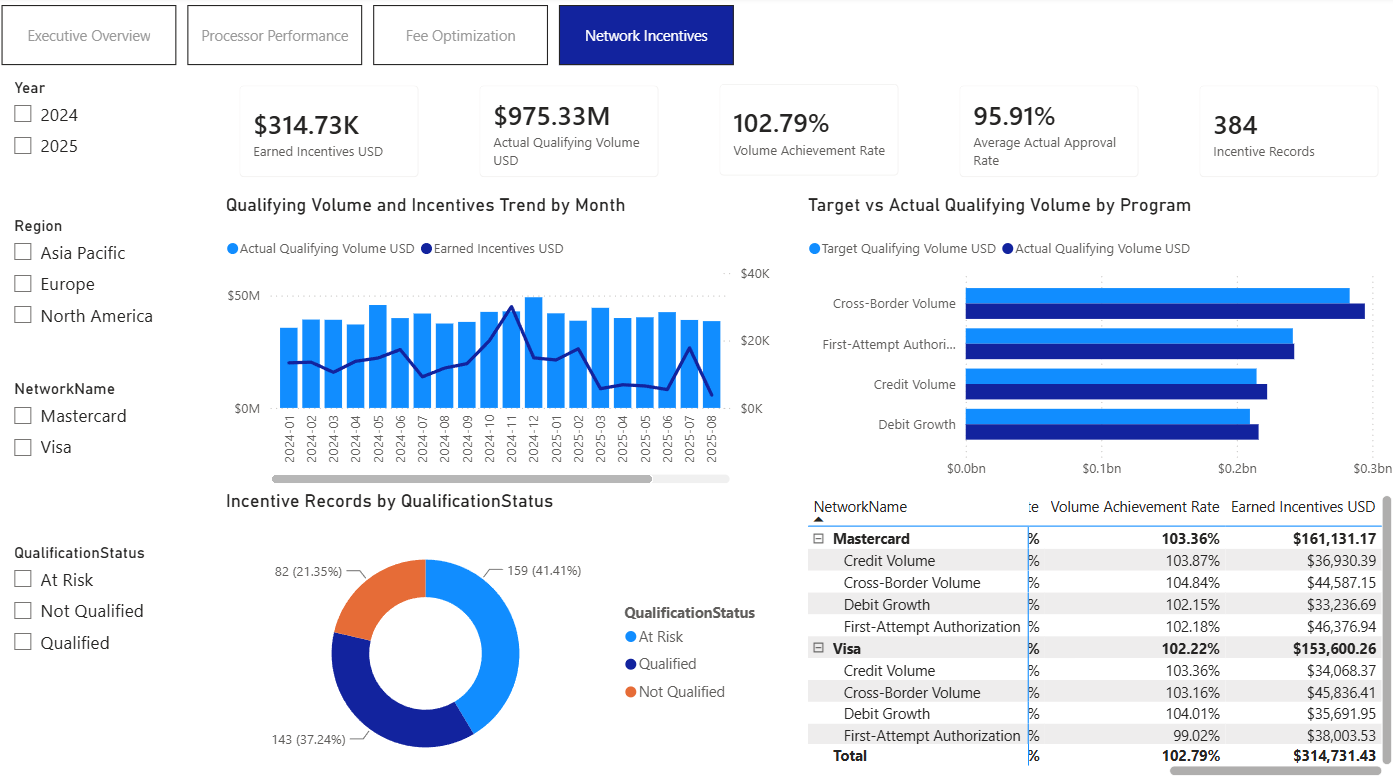

Layout of this report page (visuals, bound fields, positions):
{"tool":"powerbi","page":{"name":"Network Incentives","canvas":[1280,720],"ordinal":3},"visuals":[{"type":"slicer","fields":{"Values":["DimMarket.Region"]},"box":[0,196.6,201.1,149.3],"z":0},{"type":"slicer","fields":{"Values":["DimNetwork.NetworkName"]},"box":[0,345.9,201.1,149.3],"z":1000},{"type":"slicer","fields":{"Values":["FactNetworkIncentives.QualificationStatus"]},"box":[0,495.2,201.1,149.3],"z":2000},{"type":"cardVisual","fields":{"Data":["AllMeasures.Earned Incentives USD"]},"box":[201.1,64,198.1,118.9],"z":3000},{"type":"cardVisual","fields":{"Data":["AllMeasures.Actual Qualifying Volume USD"]},"box":[421,64,198,118.9],"z":4000},{"type":"cardVisual","fields":{"Data":["AllMeasures.Volume Achievement Rate"]},"box":[640.8,62.5,198,118.4],"z":5000},{"type":"cardVisual","fields":{"Data":["AllMeasures.Average Actual Approval Rate"]},"box":[860.6,64,198,118.4],"z":6000},{"type":"cardVisual","fields":{"Data":["AllMeasures.Incentive Records"]},"box":[1080.4,64,198,118.4],"z":7000},{"type":"lineStackedColumnComboChart","title":"Qualifying Volume and Incentives Trend by Month","fields":{"Category":["DimDate.Year Month"],"Y":["AllMeasures.Actual Qualifying Volume USD"],"Y2":["AllMeasures.Earned Incentives USD"]},"box":[201.1,181.3,507.4,269.7],"z":8000},{"type":"clusteredBarChart","title":"Target vs Actual Qualifying Volume by Program","fields":{"Category":["FactNetworkIncentives.Program"],"Y":["AllMeasures.Target Qualifying Volume USD","AllMeasures.Actual Qualifying Volume USD"]},"box":[734.5,181.3,544,269.7],"z":9000},{"type":"donutChart","fields":{"Category":["FactNetworkIncentives.QualificationStatus"],"Y":["AllMeasures.Incentive Records"]},"box":[201.1,451,507.4,269.7],"z":10000},{"type":"pivotTable","fields":{"Rows":["DimNetwork.NetworkName","FactNetworkIncentives.Program"],"Values":["AllMeasures.Target Qualifying Volume USD","AllMeasures.Actual Qualifying Volume USD","AllMeasures.Average Actual Approval Rate","AllMeasures.Volume Achievement Rate","AllMeasures.Earned Incentives USD"]},"box":[734.5,451,544,266.7],"z":11000},{"type":"slicer","fields":{"Values":["DimDate.Year"]},"box":[0,70.1,201.1,126.5],"z":12000},{"type":"pageNavigator","box":[1.9,7.7,672.1,55.8],"z":13000}]}

Visuals, with their boxes in screenshot pixels (x1, y1, x2, y2), scaled from the page's 1280x720 canvas onto the 1393x778 screenshot:
slicer - DimMarket.Region: crop(0, 212, 219, 374)
slicer - DimNetwork.NetworkName: crop(0, 374, 219, 535)
slicer - FactNetworkIncentives.QualificationStatus: crop(0, 535, 219, 696)
cardVisual - AllMeasures.Earned Incentives USD: crop(219, 69, 434, 198)
cardVisual - AllMeasures.Actual Qualifying Volume USD: crop(458, 69, 674, 198)
cardVisual - AllMeasures.Volume Achievement Rate: crop(697, 68, 913, 195)
cardVisual - AllMeasures.Average Actual Approval Rate: crop(937, 69, 1152, 197)
cardVisual - AllMeasures.Incentive Records: crop(1176, 69, 1391, 197)
"Qualifying Volume and Incentives Trend by Month" lineStackedColumnComboChart: crop(219, 196, 771, 487)
"Target vs Actual Qualifying Volume by Program" clusteredBarChart: crop(799, 196, 1391, 487)
donutChart - FactNetworkIncentives.QualificationStatus x AllMeasures.Incentive Records: crop(219, 487, 771, 777)
pivotTable - DimNetwork.NetworkName x FactNetworkIncentives.Program: crop(799, 487, 1391, 776)
slicer - DimDate.Year: crop(0, 76, 219, 212)
pageNavigator: crop(2, 8, 734, 69)
